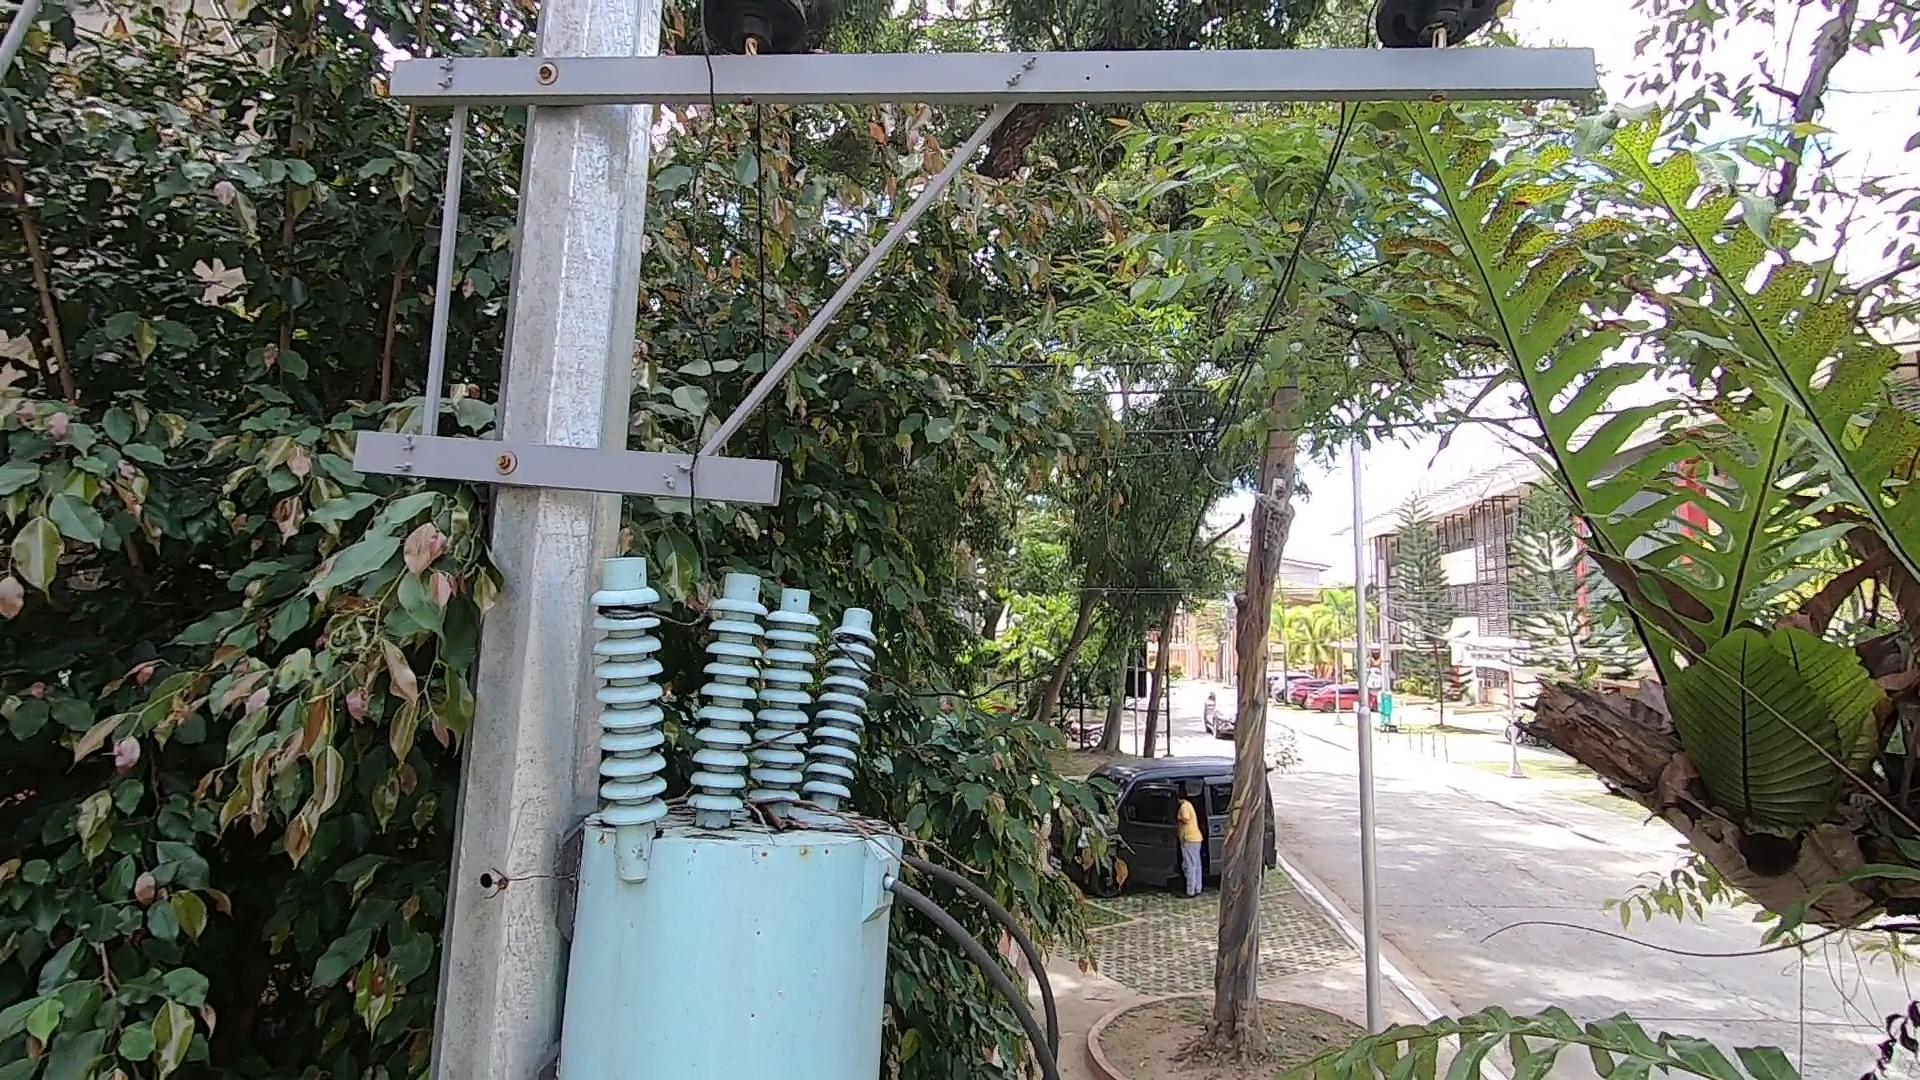leaf: (736, 791, 806, 839)
tree branch: (649, 766, 994, 898)
